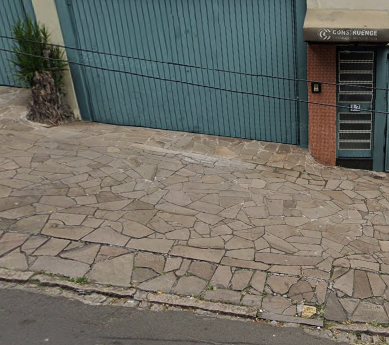vag13: (2, 214, 361, 340)
